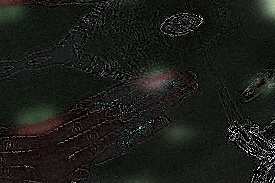washing hand: (45, 9, 274, 182)
